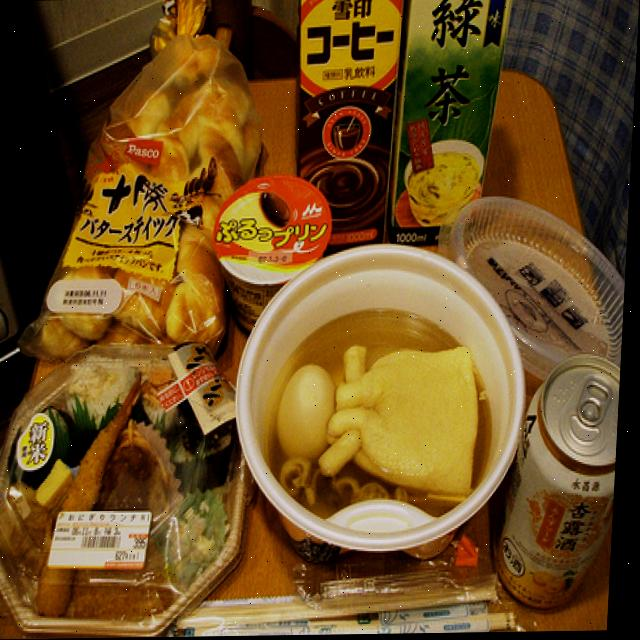汤锅炖物: (274, 340, 494, 509)
